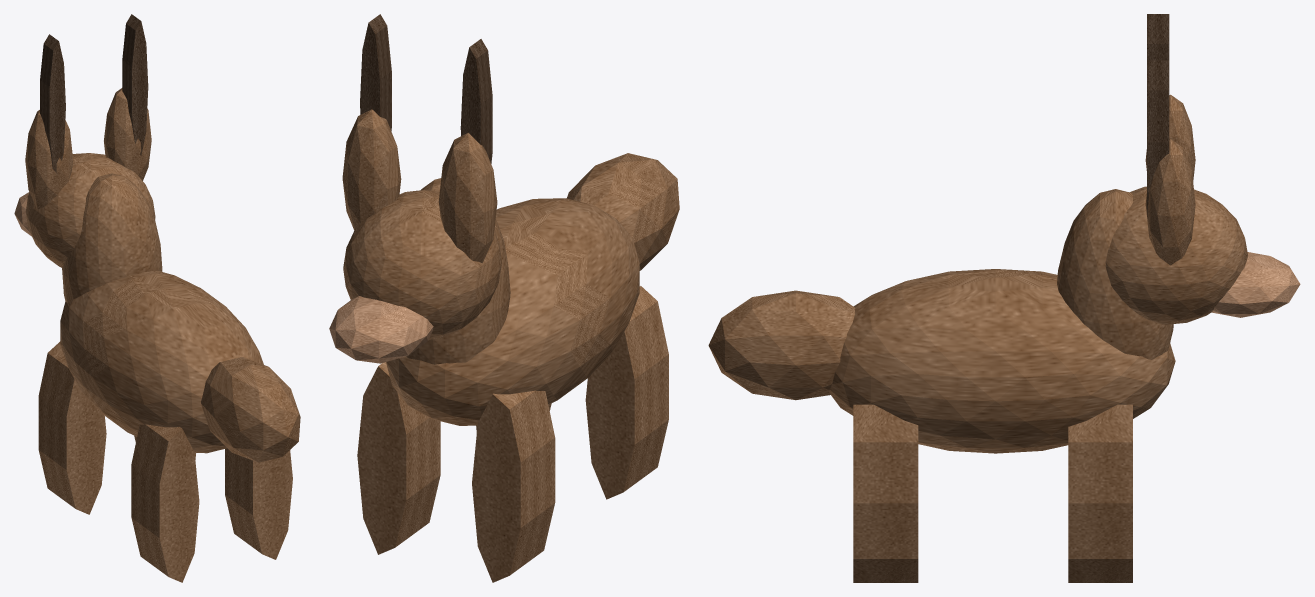
The model's file is wildlight_deer_textured.glb.
3 renders of one model, left to right at view 1: azimuth 30°, elevation 25°; view 2: azimuth 150°, elevation 25°; view 3: azimuth 270°, elevation 25°, orthographic. The views are drawn at different scales.
Parts seen in each view (by area): view 1: torso, leg-10.44, neck, leg-1-0.42, tail, leg10.44, head, ear-1, antler-1, antler1, ear1, muzzle; view 2: torso, head, leg-1-0.42, leg-10.44, leg1-0.42, tail, ear-1, ear1, muzzle, neck, antler-1, antler1; view 3: torso, tail, head, leg10.44, leg1-0.42, neck, ear1, muzzle, antler1, ear-1, antler-1.
Part boxes in pixels (left/top/right/bottom): torso: left=60, top=271, right=263, bottom=453; leg-10.44: left=131, top=424, right=199, bottom=582; neck: left=62, top=173, right=162, bottom=302; leg-1-0.42: left=38, top=341, right=106, bottom=514; tail: left=201, top=357, right=300, bottom=462; leg10.44: left=225, top=448, right=292, bottom=559; head: left=25, top=153, right=155, bottom=267; ear-1: left=25, top=110, right=72, bottom=209; antler-1: left=40, top=34, right=65, bottom=173; antler1: left=122, top=14, right=148, bottom=155; ear1: left=104, top=88, right=151, bottom=180; muzzle: left=14, top=192, right=31, bottom=236; torso: left=386, top=198, right=639, bottom=425; head: left=343, top=190, right=501, bottom=339; leg-1-0.42: left=472, top=390, right=555, bottom=582; leg-10.44: left=585, top=286, right=668, bottom=499; leg1-0.42: left=357, top=362, right=440, bottom=554; tail: left=566, top=153, right=679, bottom=270; ear-1: left=438, top=133, right=497, bottom=262; ear1: left=342, top=109, right=401, bottom=230; muzzle: left=329, top=296, right=433, bottom=363; neck: left=406, top=178, right=510, bottom=364; antler-1: left=460, top=39, right=492, bottom=163; antler1: left=360, top=14, right=391, bottom=130; torso: left=829, top=269, right=1175, bottom=453; tail: left=708, top=290, right=854, bottom=400; head: left=1105, top=186, right=1247, bottom=324; leg10.44: left=853, top=404, right=918, bottom=582; leg1-0.42: left=1068, top=404, right=1132, bottom=582; neck: left=1057, top=189, right=1173, bottom=359; ear1: left=1145, top=139, right=1195, bottom=265; muzzle: left=1211, top=252, right=1300, bottom=317; antler1: left=1147, top=60, right=1169, bottom=216; ear-1: left=1145, top=94, right=1195, bottom=181; antler-1: left=1147, top=14, right=1169, bottom=60.
Bounding box in the file's own units: 0.76 × 2.29 × 2.37.
3 materials, 3 textured.
